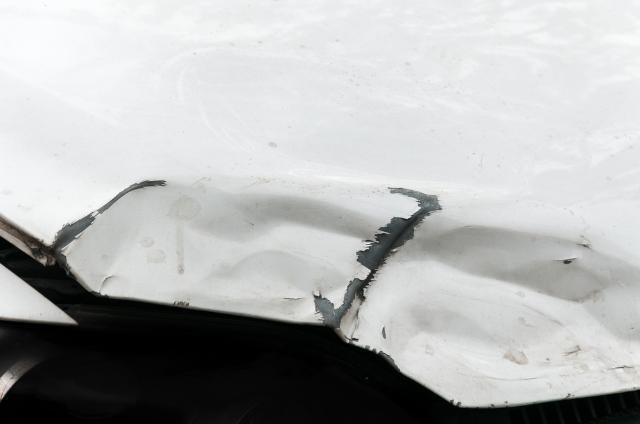dent: (47, 176, 414, 326), (375, 220, 640, 408)
scratch: (314, 182, 443, 346)
